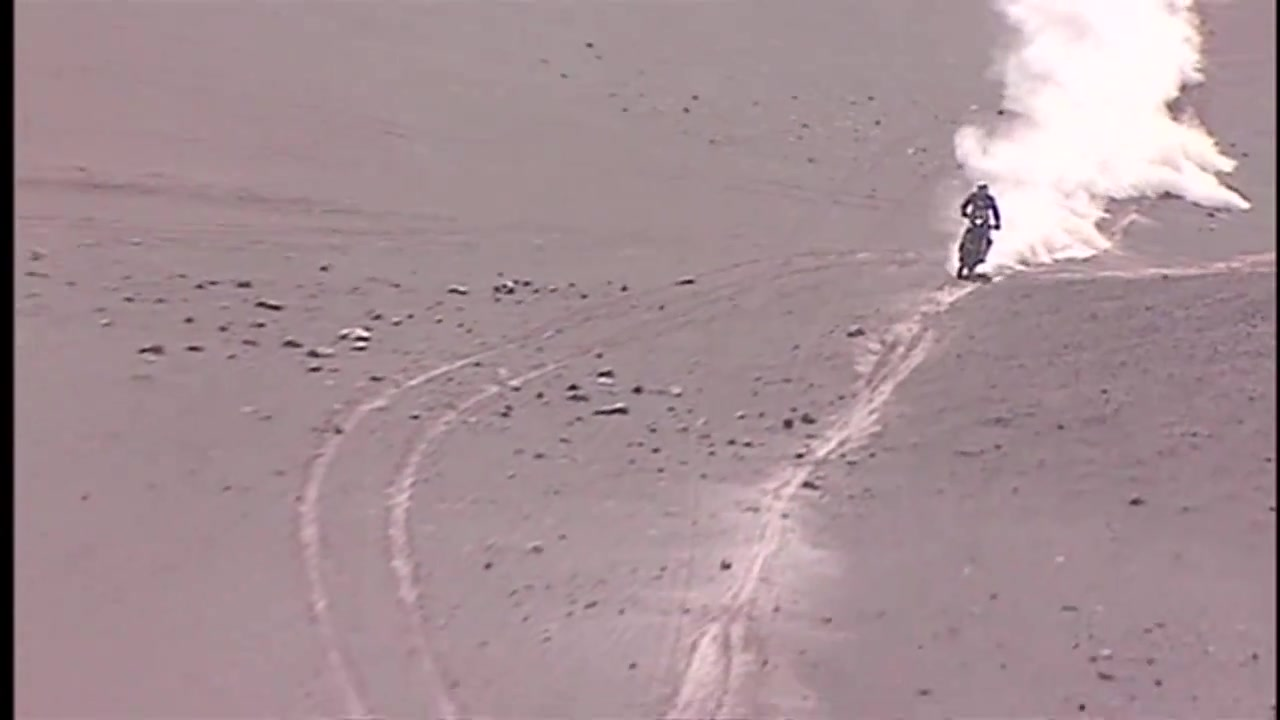motorbike: (954, 213, 996, 279)
